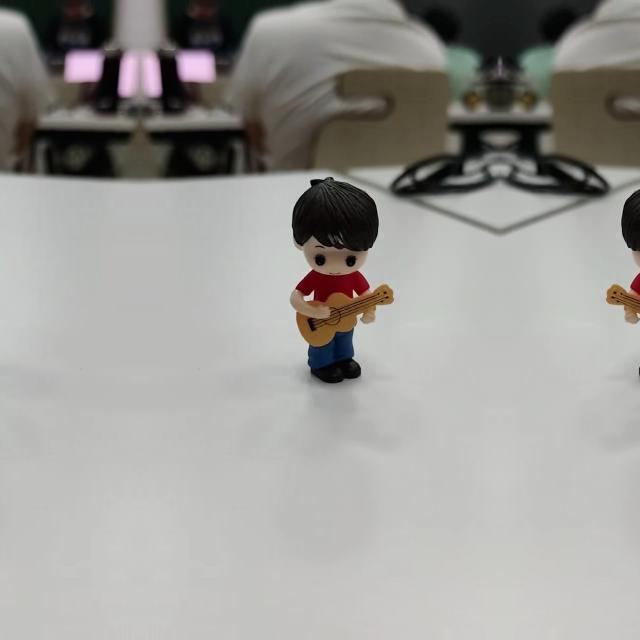man cloth: (297, 266, 379, 308), (621, 266, 640, 307)
man head: (288, 175, 380, 278), (620, 175, 640, 278)
trousers: (306, 320, 362, 380), (637, 320, 640, 380)
